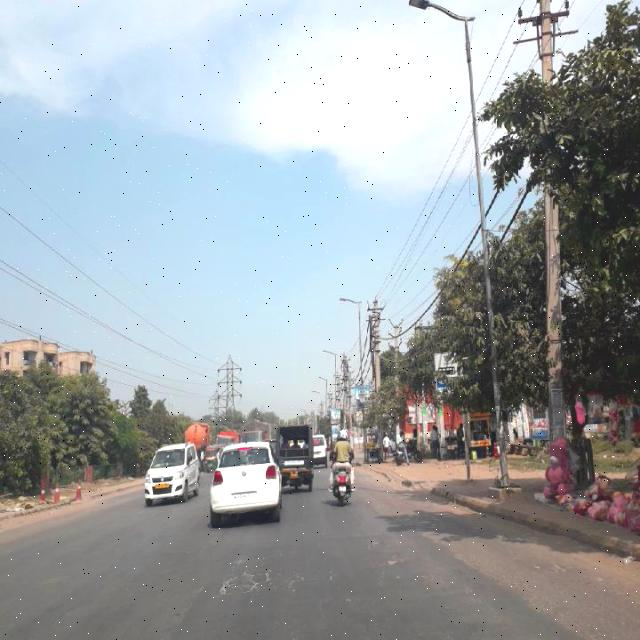D20: (218, 564, 298, 600)
